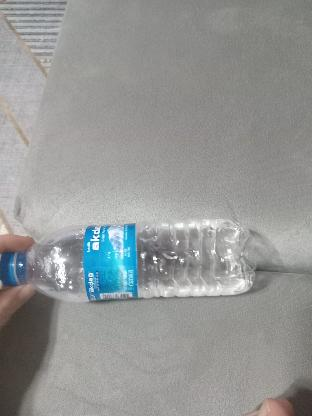Plastic Bottle: (0, 217, 256, 309)
